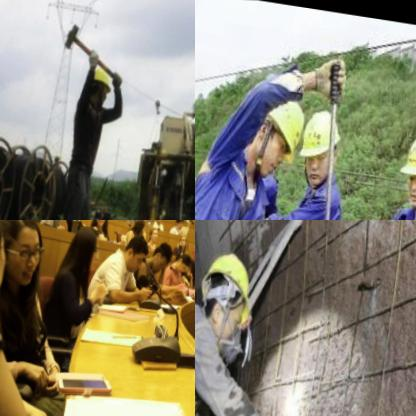head: (0, 220, 48, 282), (66, 224, 103, 271), (121, 234, 149, 274), (148, 242, 171, 276), (175, 253, 190, 274), (181, 256, 194, 275), (132, 220, 147, 233), (178, 233, 189, 250), (150, 226, 159, 240), (174, 220, 186, 229), (93, 220, 109, 226)
helmet: (195, 235, 263, 349), (246, 90, 313, 184), (292, 99, 341, 194), (396, 116, 416, 217), (83, 61, 121, 110)
